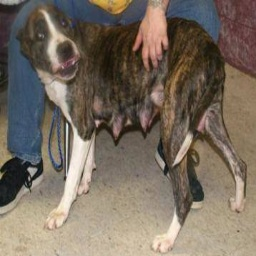dog: (17, 5, 246, 253)
